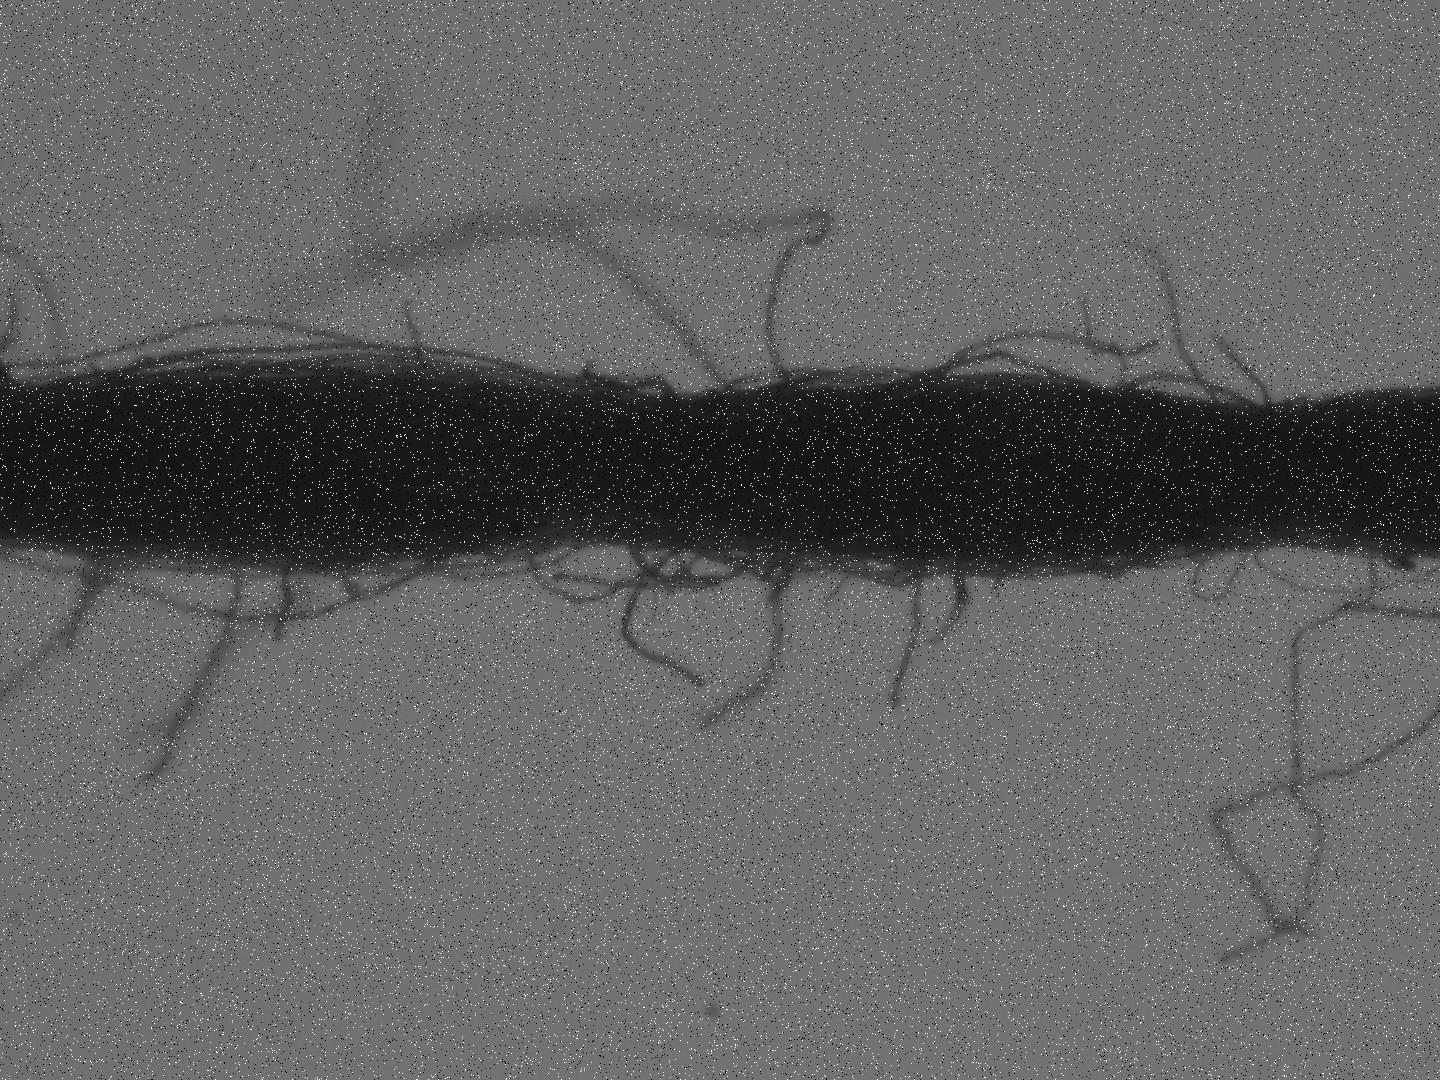loop_fiber: (10, 548, 429, 626), (112, 338, 581, 390), (379, 542, 575, 588), (889, 346, 1096, 388), (814, 547, 999, 591), (629, 532, 756, 589), (1119, 368, 1267, 405), (721, 362, 881, 396), (1186, 547, 1251, 606), (528, 533, 620, 552)
protruding_fiber: (1126, 237, 1226, 407), (883, 557, 938, 702)
